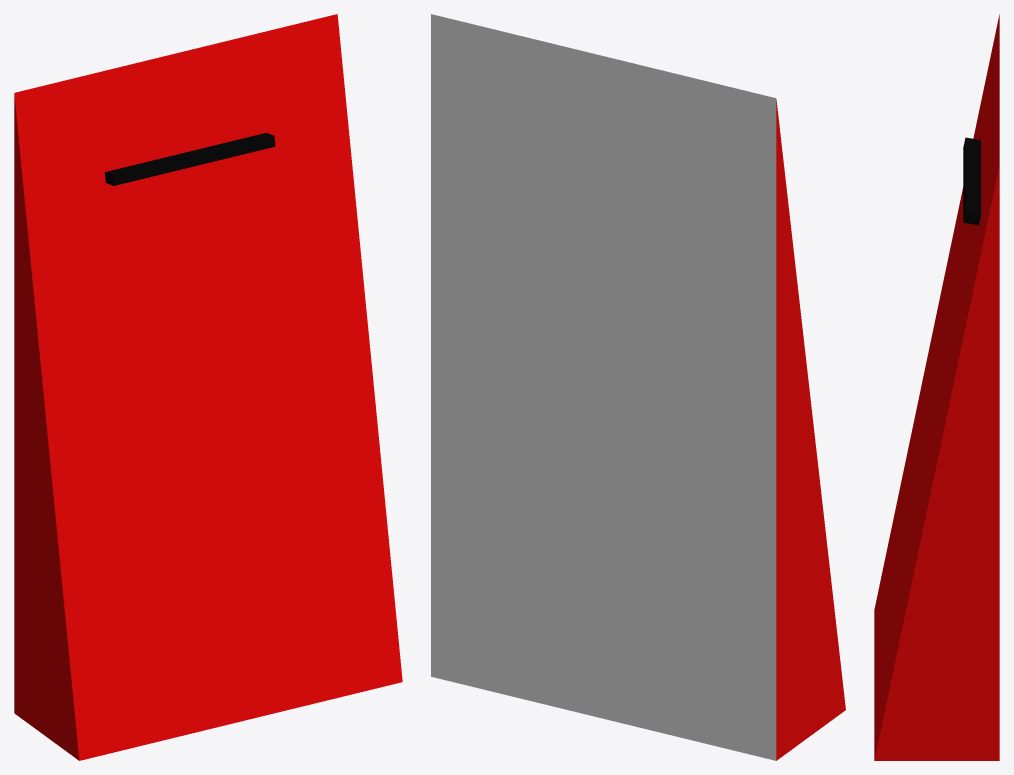
Rendered from Switch Red.fbx.
3 renders of one model, left to right at view 1: azimuth 30°, elevation 25°; view 2: azimuth 150°, elevation 25°; view 3: azimuth 270°, elevation 25°, orthographic. The views are drawn at different scales.
Visible parts, largest first — view 1: Component1; view 2: Component1; view 3: Component1.
Part boxes in pixels (bbox=[...]): Component1: bbox=[14, 14, 402, 760]; Component1: bbox=[431, 14, 845, 760]; Component1: bbox=[874, 14, 999, 760].
Size of the model in its own units: 0.9747 by 1.79 by 0.3401.
